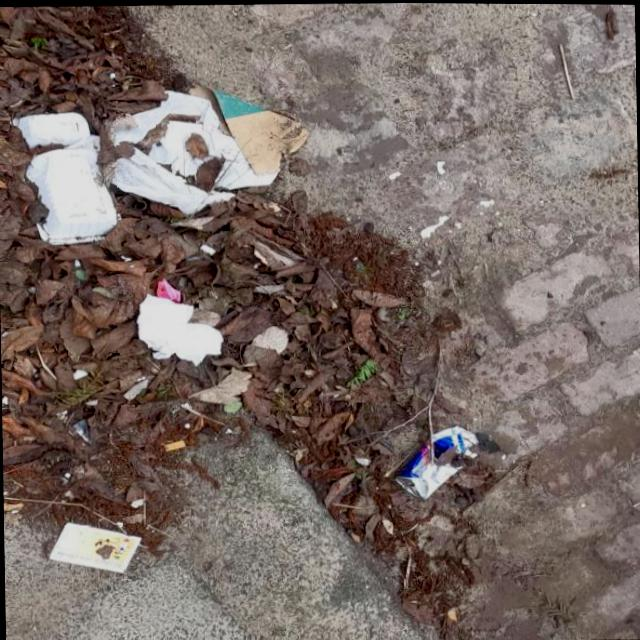Can-Metal: (393, 422, 480, 499)
Paper: (105, 86, 282, 190), (187, 82, 311, 175), (24, 144, 122, 245), (109, 144, 236, 214), (136, 290, 224, 367), (47, 518, 143, 574), (147, 118, 215, 177), (9, 110, 91, 148)
Plastic: (156, 276, 182, 303)
